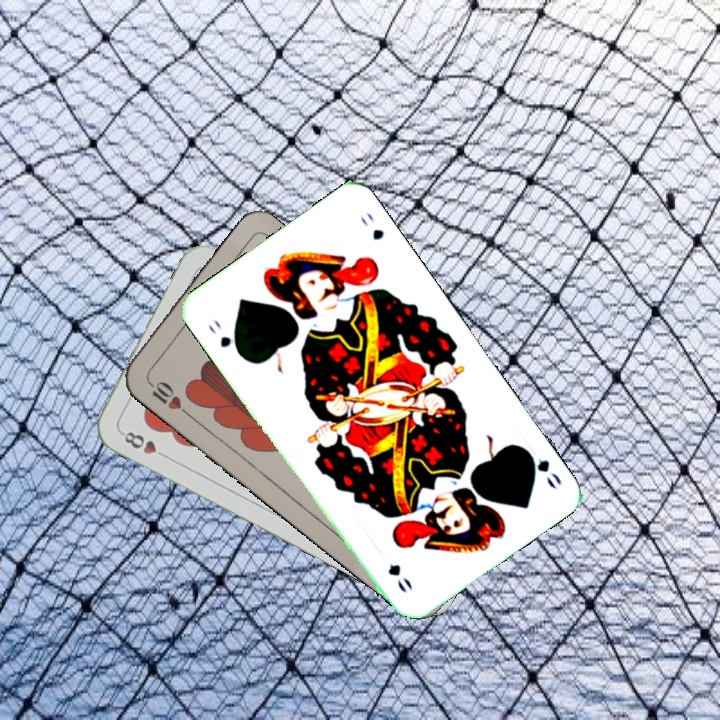GO: (518, 443, 564, 492), (204, 315, 245, 359)
H10: (143, 375, 192, 418)
H8: (117, 427, 172, 461)
